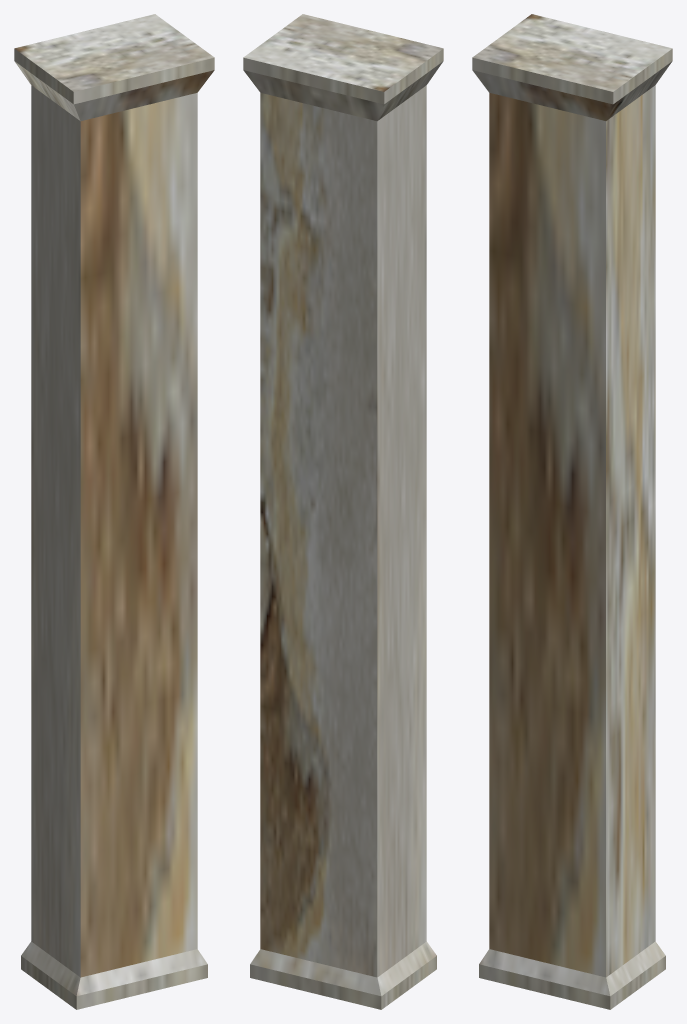
The model's file is Pillars_5.fbx.
3 views of the same model, side by side, from view 1: azimuth 30°, elevation 25°; view 2: azimuth 150°, elevation 25°; view 3: azimuth 330°, elevation 25° (orthographic).
Visible parts, largest first — view 1: Cube.005; view 2: Cube.005; view 3: Cube.005.
Part boxes in pixels (box(x1,y1,x2,y2)): Cube.005: box(14, 14, 214, 1009); Cube.005: box(243, 14, 443, 1009); Cube.005: box(472, 14, 672, 1009).
Bounding box in the file's own units: 34.46 × 215 × 25.23.
